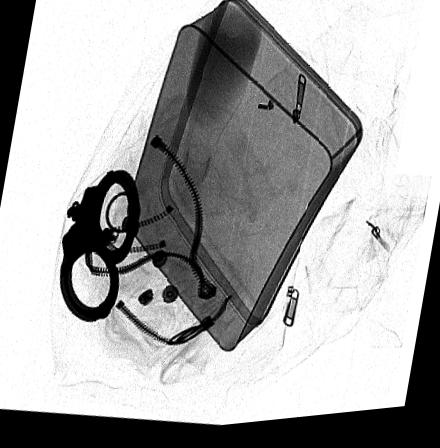HandCuffs: (58, 171, 140, 324)
